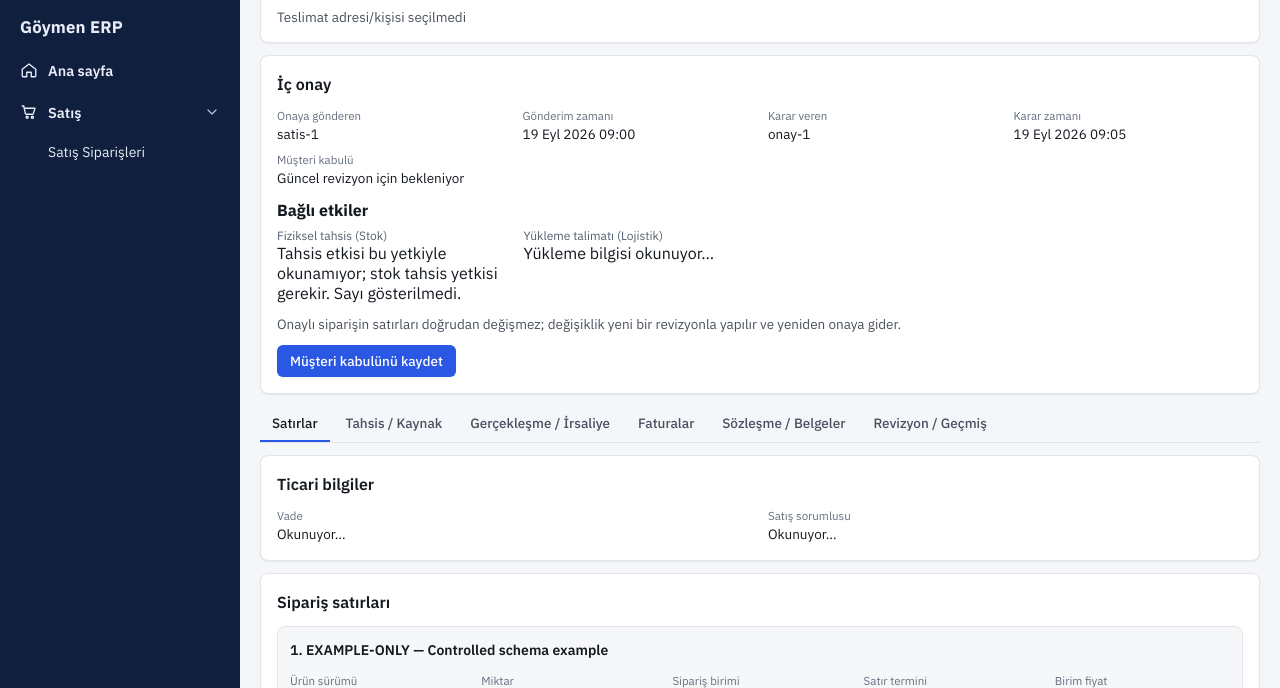
Test: S-04 customer acceptance (Q9) › says the order moved and re-reads it when the server refuses a stale version
(page scrolled)
Click the button "Müşteri kabulünü kaydet" at (366, 361), box x1=277 y1=345 x2=456 y2=377
(page scrolled)
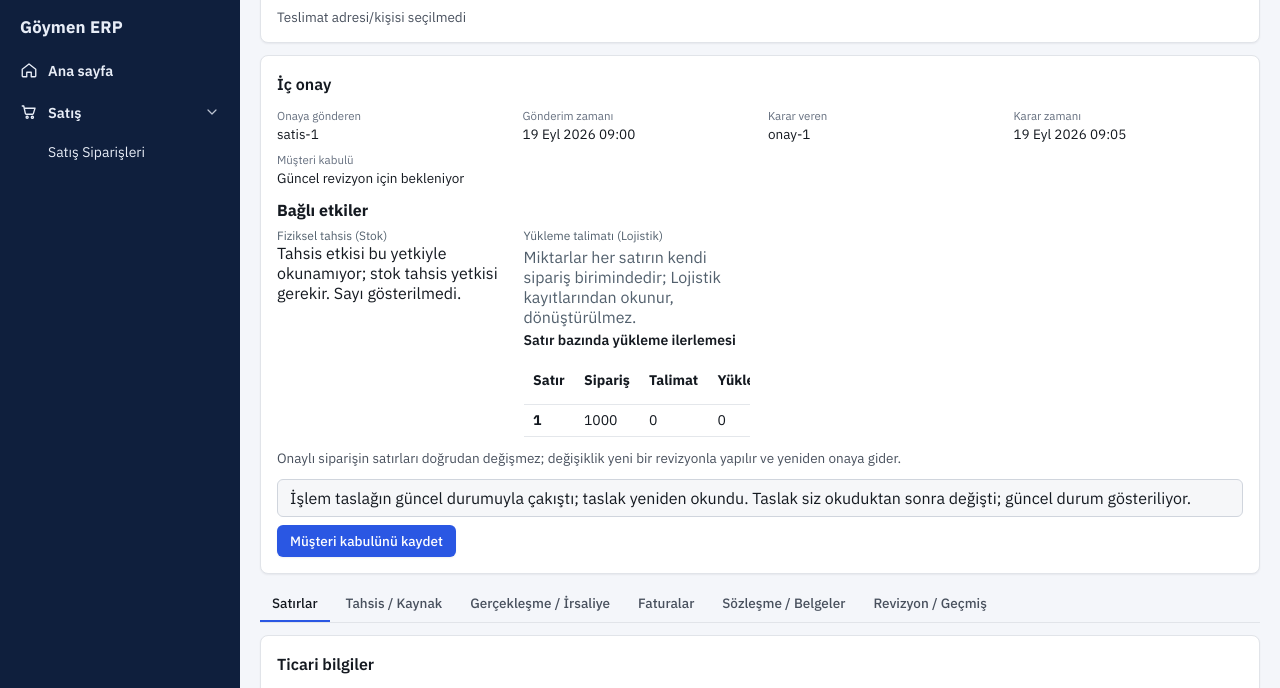
expect the message with test id "sales-approval-notice" shows "Taslak siz okuduktan sonra değişti; güncel durum gösteriliyor.": met, box x1=290 y1=488 x2=1191 y2=508
